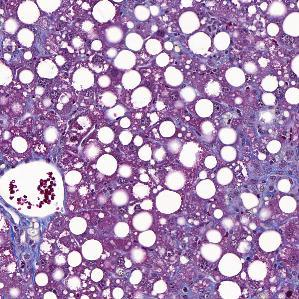fibrosis: (236, 146, 299, 199), (5, 220, 63, 267)
